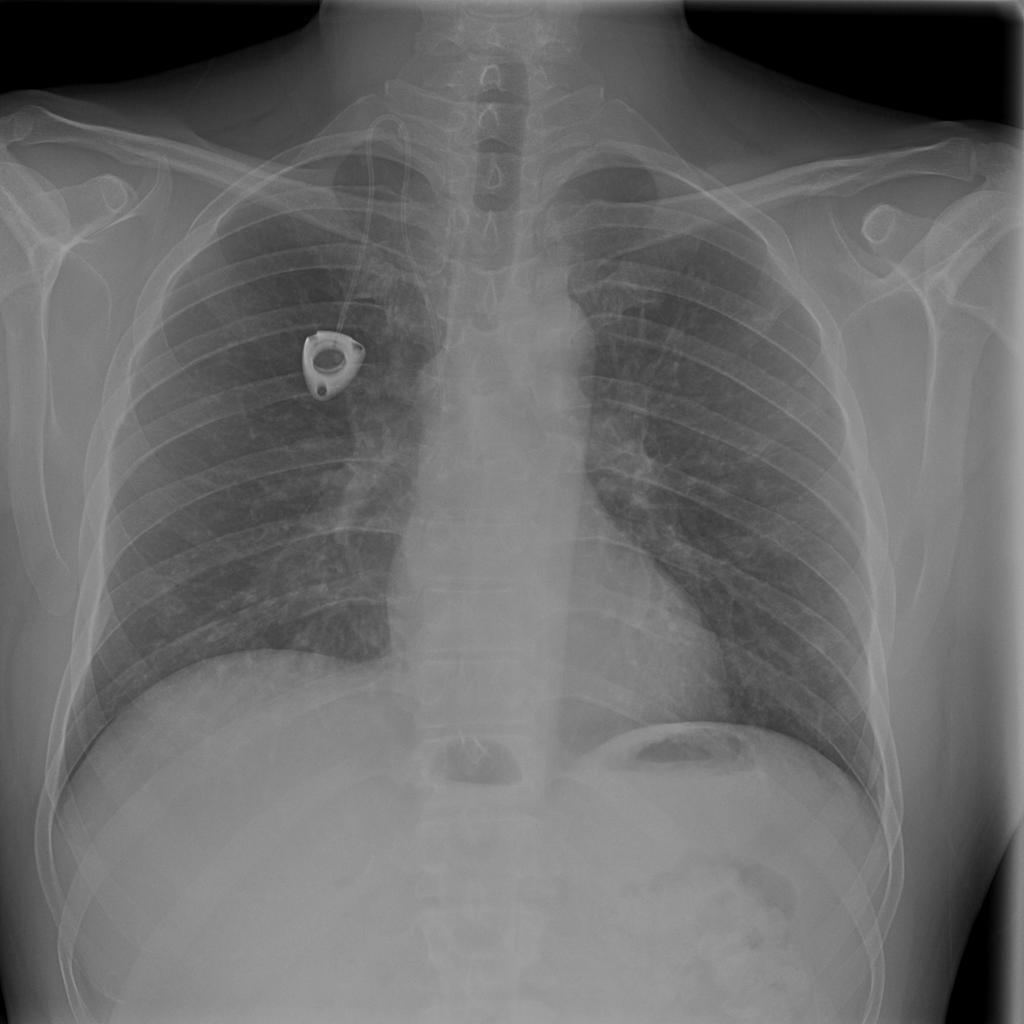nodule: (822, 679, 871, 729), (793, 622, 841, 671)
